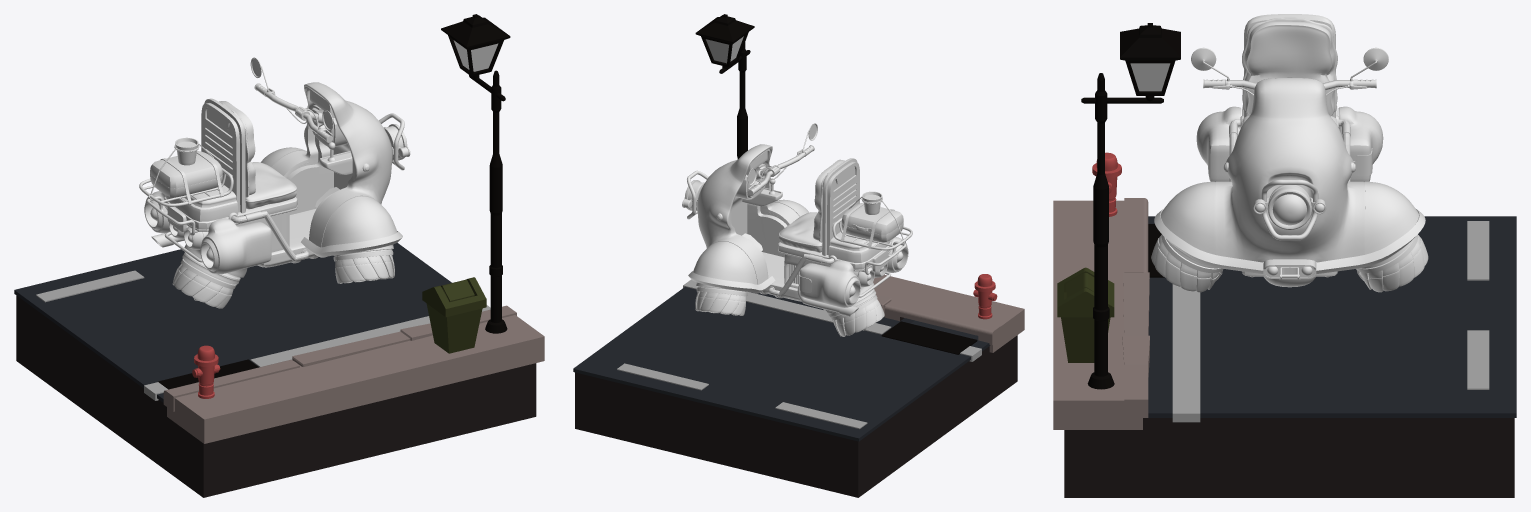
The model's file is hover_bike.fbx.
3 renders of one model, left to right at view 1: azimuth 30°, elevation 25°; view 2: azimuth 150°, elevation 25°; view 3: azimuth 270°, elevation 25°, orthographic. The views are drawn at different scales.
Visible parts, largest first — view 1: Cube, Circle.031, Circle.017, Cube.006, Circle.019, Cylinder.001, Cylinder, Circle.022, Circle.035, Circle.021, Circle.024, Circle.029 (+8 smaller); view 2: Cube, Circle.031, Circle.017, Circle.019, Cylinder, Cube.005, Circle.022, Circle.035, Circle.021, Circle.024, Circle.029, Circle.014 (+5 smaller); view 3: Cube, Circle.031, Circle.020, Cylinder.001, Cylinder, Circle.017, Cube.006, Circle.024, Circle, Circle.023, Cube.003, BezierCurve (+3 smaller).
Part boxes in pixels (x1,y1,x2,y2): Cube: (14,242,544,497); Circle.031: (261,82,402,257); Circle.017: (144,191,308,274); Cube.006: (422,277,486,353); Circle.019: (201,98,245,213); Cylinder.001: (485,70,507,333); Cylinder: (441,14,510,101); Circle.022: (164,196,316,265); Circle.035: (150,151,222,197); Circle.021: (245,162,296,209); Circle.024: (335,255,394,283); Circle.029: (166,183,238,221); Cube: (573,274,1024,497); Circle.031: (688,144,808,293); Circle.017: (768,237,908,307); Circle.019: (822,158,859,255); Cylinder: (695,14,754,73); Cube.005: (881,321,977,354); Circle.022: (762,242,891,299); Circle.035: (842,203,903,242); Circle.021: (778,212,822,252); Circle.024: (695,291,745,315); Circle.029: (828,230,890,262); Circle.014: (832,299,884,336); Cube: (1053,198,1516,497); Circle.031: (1154,77,1425,273); Circle.020: (1242,18,1337,116); Cylinder.001: (1087,73,1114,389); Cylinder: (1081,23,1180,103); Circle.017: (1196,106,1383,181); Cube.006: (1057,267,1114,362); Circle.024: (1151,234,1428,292); Circle: (1267,185,1311,229); Circle.023: (1161,234,1418,272); Cube.003: (1249,259,1329,279); BezierCurve: (1261,179,1318,240).
Bounding box in the file's own units: 10.13 × 10.76 × 9.84.
